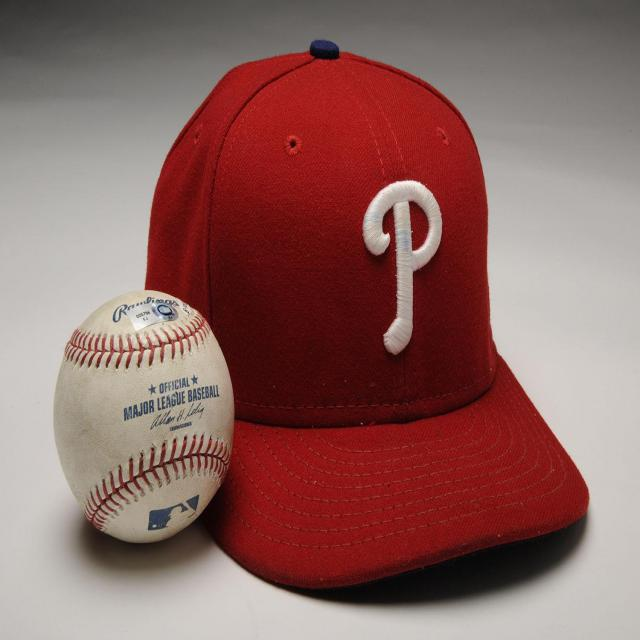baseball: (50, 289, 235, 536)
